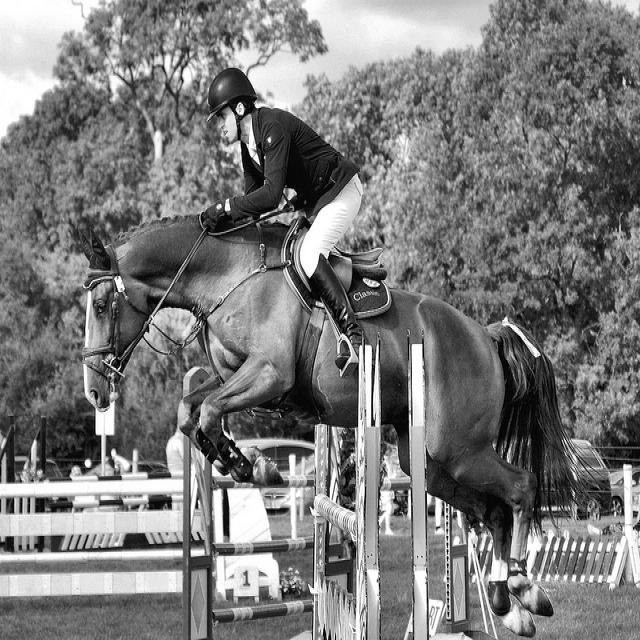Vehicle: (569, 436, 612, 524), (246, 440, 314, 472), (609, 470, 640, 517), (15, 456, 65, 482), (136, 461, 170, 478)
